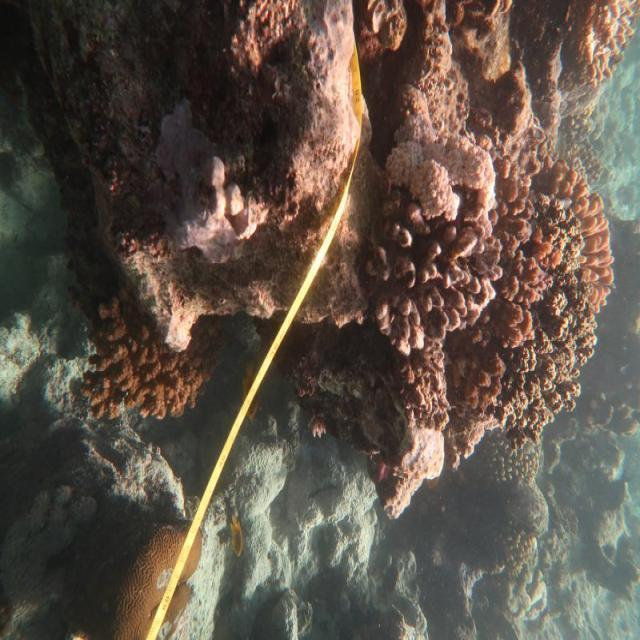Healthy Coral: (365, 14, 611, 503), (78, 270, 214, 428)
